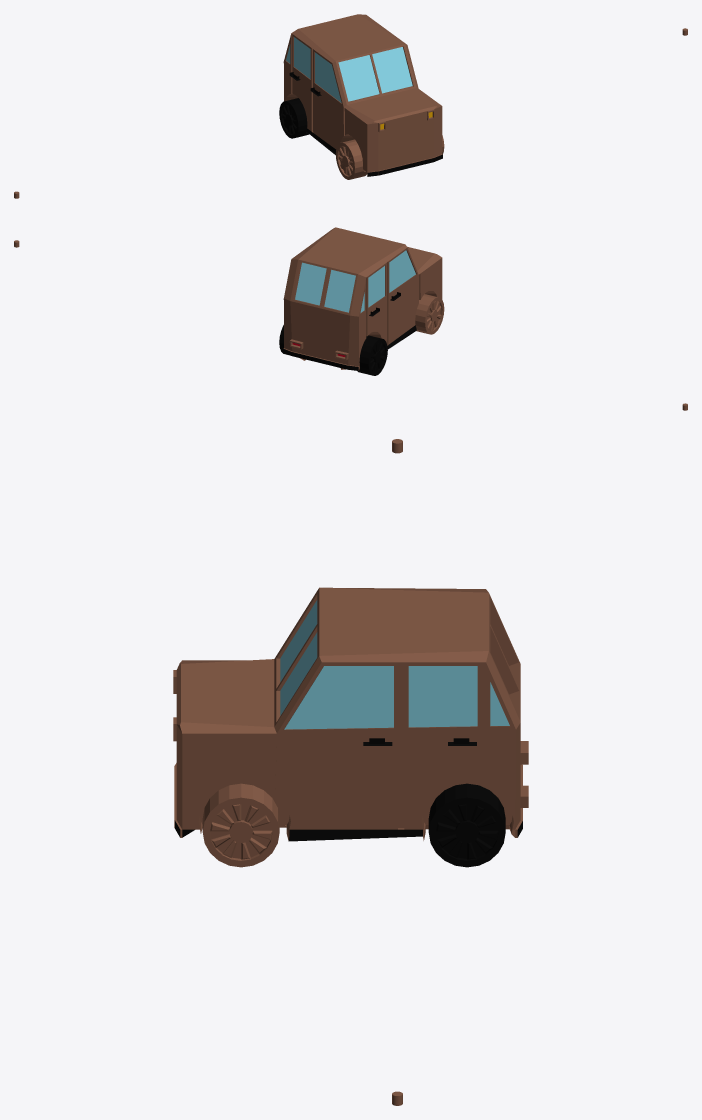
File: Car.fbx
3 renders of one model, top to bottom at view 1: azimuth 30°, elevation 25°; view 2: azimuth 150°, elevation 25°; view 3: azimuth 270°, elevation 25°, orthographic. The views are drawn at different scales.
Parts seen in each view (by area): view 1: Car; view 2: Car; view 3: Car.
Part boxes in pixels (x1,y1,x2,y2): Car: (14, 14, 687, 198); Car: (14, 227, 687, 410); Car: (173, 439, 528, 1105).
Bounding box in the file's own units: 28716 × 4117 × 6566.
